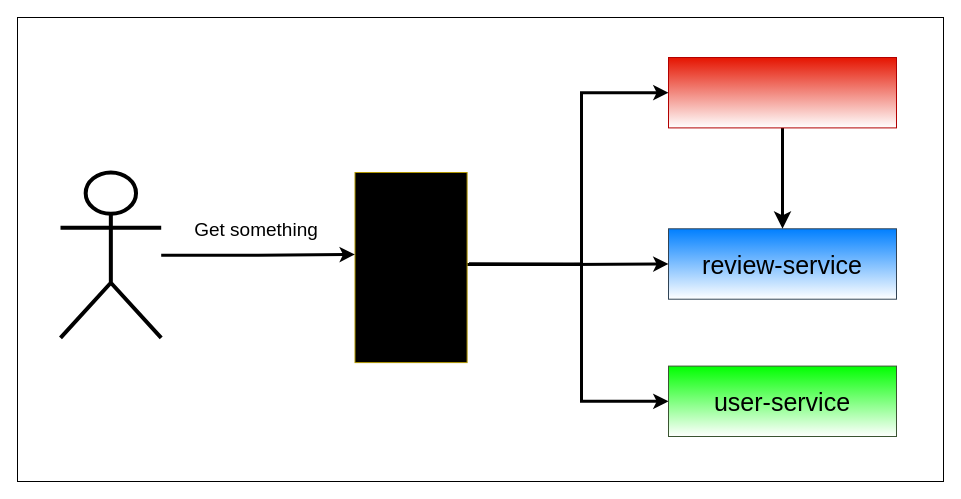
The diagram is 961 pixels wide and 499 high, and some of its shapes have lost their labels. Here are the shapes that lost their labels. From the top down, the centre of each, then its label:
At pixel 782 92: "movie-service".
At pixel 110 254: "User".
